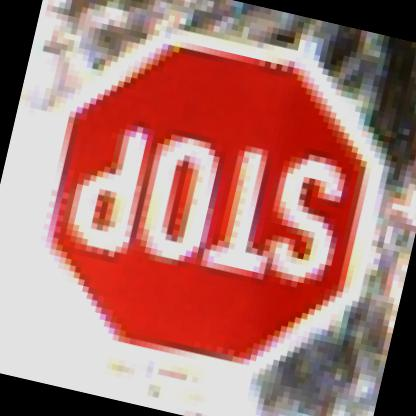stop: (11, 5, 400, 402)
